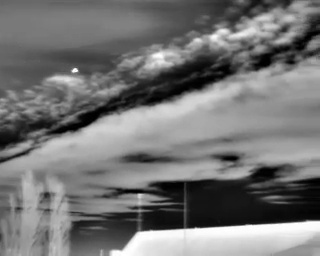BIRD: (69, 65, 81, 76)
